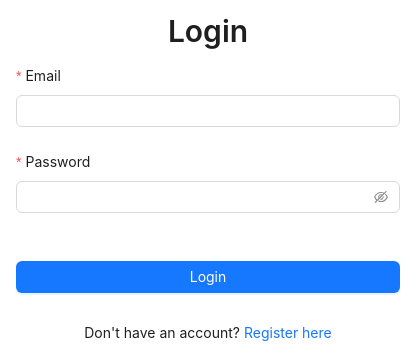
Test case: Login Component › shows validation errors for empty fields
Click the login button without filling in the form
What coordinates should you click on to do the following:
click the button "Login"
I would click on:
 (208, 277)
Its box is [16, 261, 400, 293].
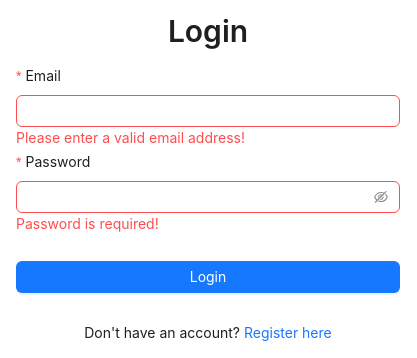
Result: the text "Please enter a valid email address!" is shown at [16, 129, 245, 146]
Result: the text "Password is required!" is shown at [16, 215, 159, 232]
